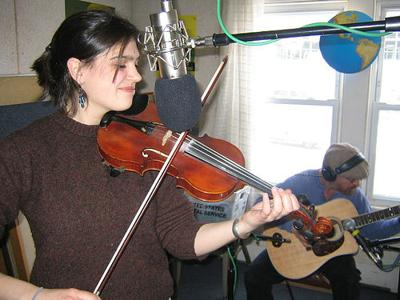person: (2, 11, 302, 300)
